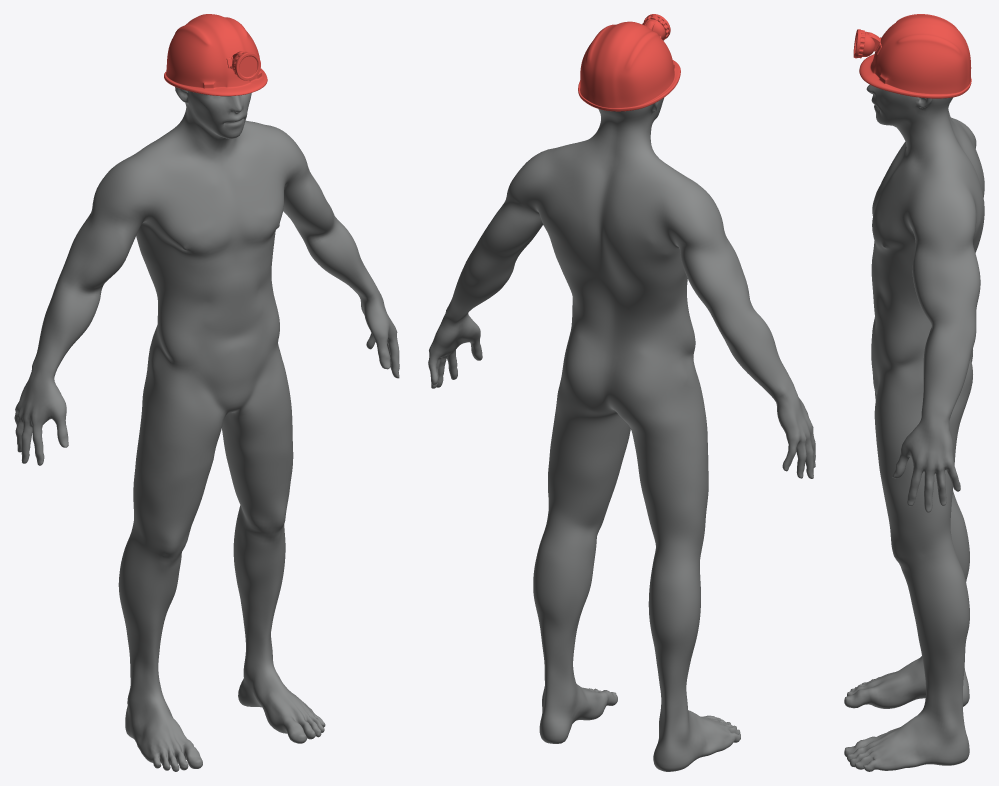
Rendered from person.glb.
3 renders of one model, left to right at view 1: azimuth 30°, elevation 25°; view 2: azimuth 150°, elevation 25°; view 3: azimuth 270°, elevation 25°, orthographic.
Visible parts, largest first — view 1: FinalBaseMesh, 16769_Miner's_Helmet_with_Head_Lamp_v1_NEW; view 2: FinalBaseMesh, 16769_Miner's_Helmet_with_Head_Lamp_v1_NEW; view 3: FinalBaseMesh, 16769_Miner's_Helmet_with_Head_Lamp_v1_NEW.
Part boxes in pixels (x1,y1,x2,y2): FinalBaseMesh: (14, 87, 399, 771); 16769_Miner's_Helmet_with_Head_Lamp_v1_NEW: (164, 14, 267, 96); FinalBaseMesh: (428, 98, 815, 771); 16769_Miner's_Helmet_with_Head_Lamp_v1_NEW: (578, 14, 680, 111); FinalBaseMesh: (844, 84, 984, 771); 16769_Miner's_Helmet_with_Head_Lamp_v1_NEW: (853, 14, 971, 98).
Bounding box in the file's own units: 11.69 × 21.21 × 3.77.
